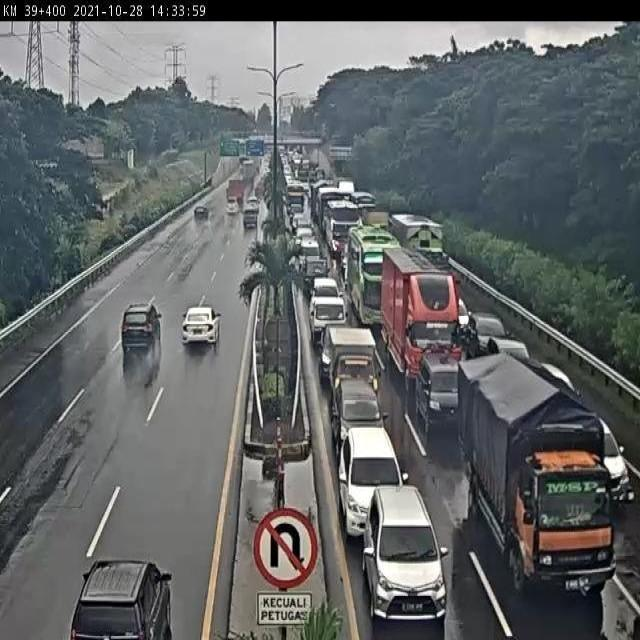Bus: (349, 229, 400, 327)
Car: (364, 485, 448, 626), (340, 426, 408, 544), (416, 351, 460, 435), (120, 299, 163, 363), (181, 304, 222, 347)
Truck: (460, 358, 617, 594), (381, 249, 464, 391), (330, 327, 382, 399)
